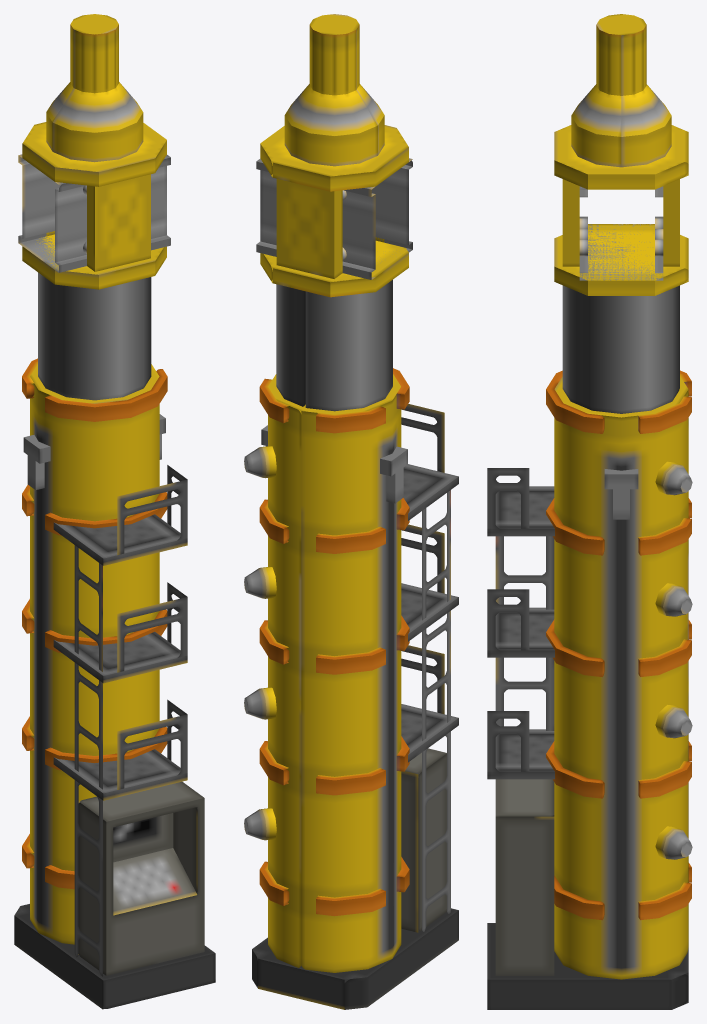
File: crane.obj
The picture shows the model from 3 angles, left to right: view 1: azimuth 30°, elevation 25°; view 2: azimuth 150°, elevation 25°; view 3: azimuth 270°, elevation 25°; orthographic projection. The views are drawn at different scales.
Visible parts, largest first — view 1: Main, Carriage, Tube, Girder, Lift; view 2: Main, Carriage, Tube, Girder, Lift; view 3: Main, Carriage, Tube, Girder, Lift.
Boxes of the visible parts, <box> form: Main: <box>14,358,215,1009</box>; Carriage: <box>22,14,166,289</box>; Tube: <box>38,272,151,400</box>; Girder: <box>18,154,170,272</box>; Lift: <box>23,414,165,489</box>; Main: <box>244,368,458,1009</box>; Carriage: <box>260,14,408,297</box>; Tube: <box>276,280,392,411</box>; Girder: <box>256,158,412,279</box>; Lift: <box>261,425,407,503</box>; Main: <box>487,370,692,1009</box>; Carriage: <box>554,14,688,295</box>; Tube: <box>562,285,679,413</box>; Girder: <box>579,186,663,280</box>; Lift: <box>604,469,638,519</box>.
Size of the model in its own units: 1.12 by 7.88 by 1.53.
